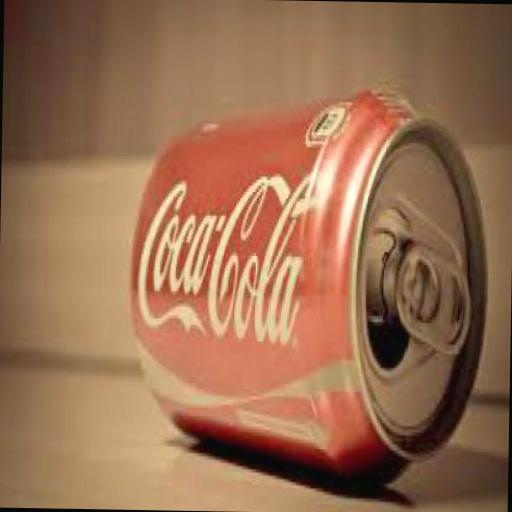metal: (124, 77, 489, 492)
